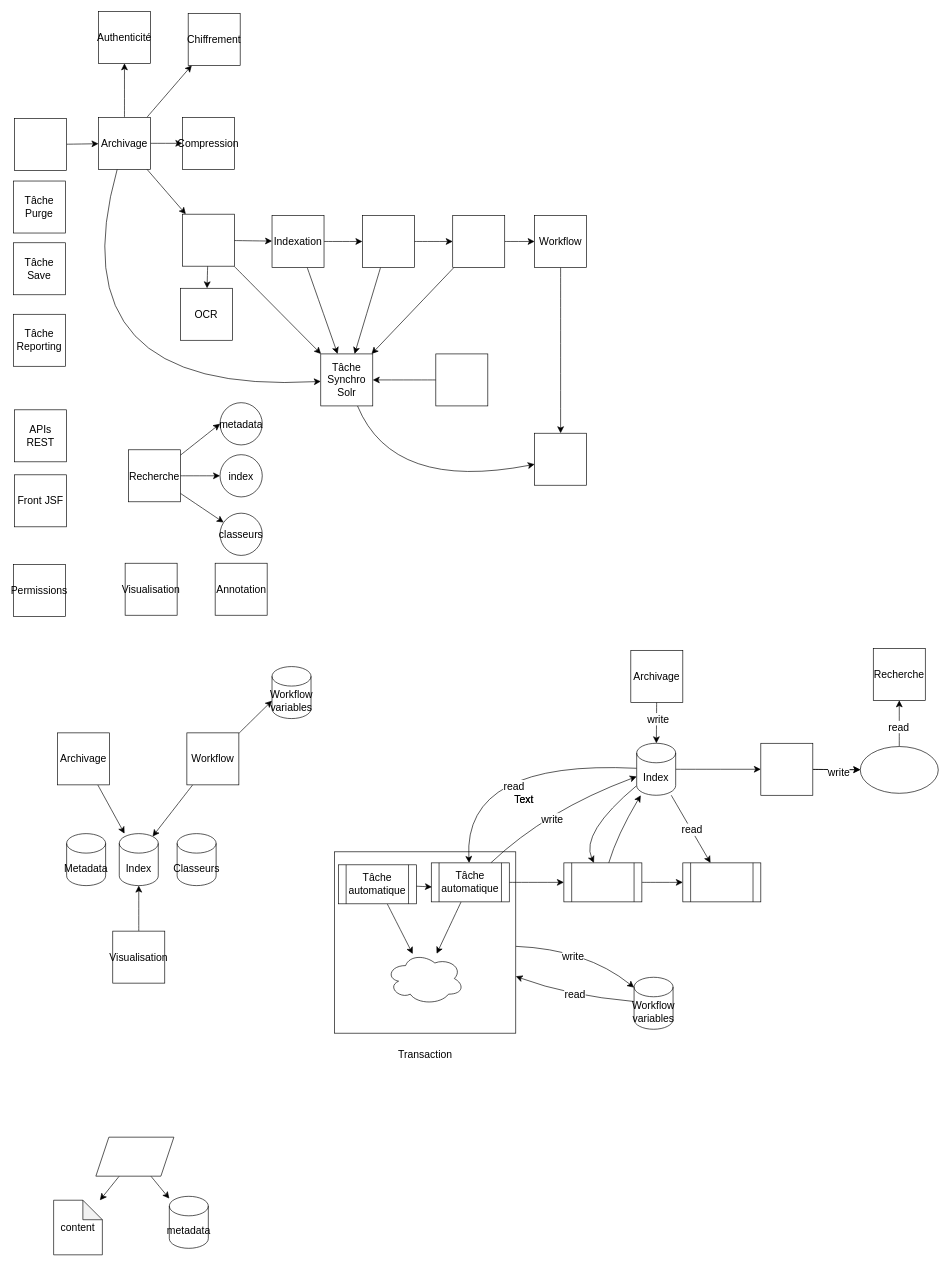
The diagram is 950 pixels wide and 1266 high, and some of its shapes have lost their labels. Each missing label, with the centre of its shape:
"Archive / Document" goes at point 134,1156.
"Classement" goes at point 388,241.
"Extraction texte" goes at point 208,240.
"Memos" goes at point 461,379.
"Notifications" goes at point 560,459.
"Solr" goes at point 899,769.
"Synchro Solr (async)" goes at point 786,769.
"Système tiers" goes at point 424,978.
"Tâche d'indexation manuelle" goes at point 602,882.
"Tâche de validation manuelle" goes at point 721,882.
"Tâche Monitoring" goes at point 40,144.
"Versionning" goes at point 478,241.
